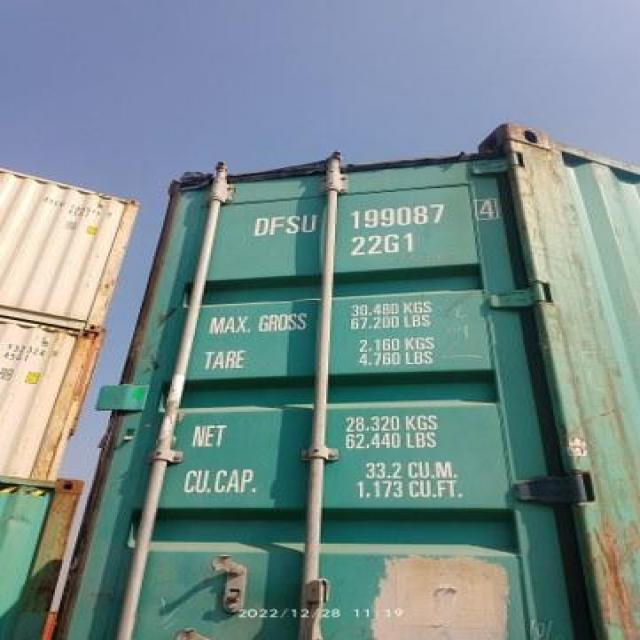ISO: (351, 232, 413, 255)
container_number: (245, 200, 502, 237)
